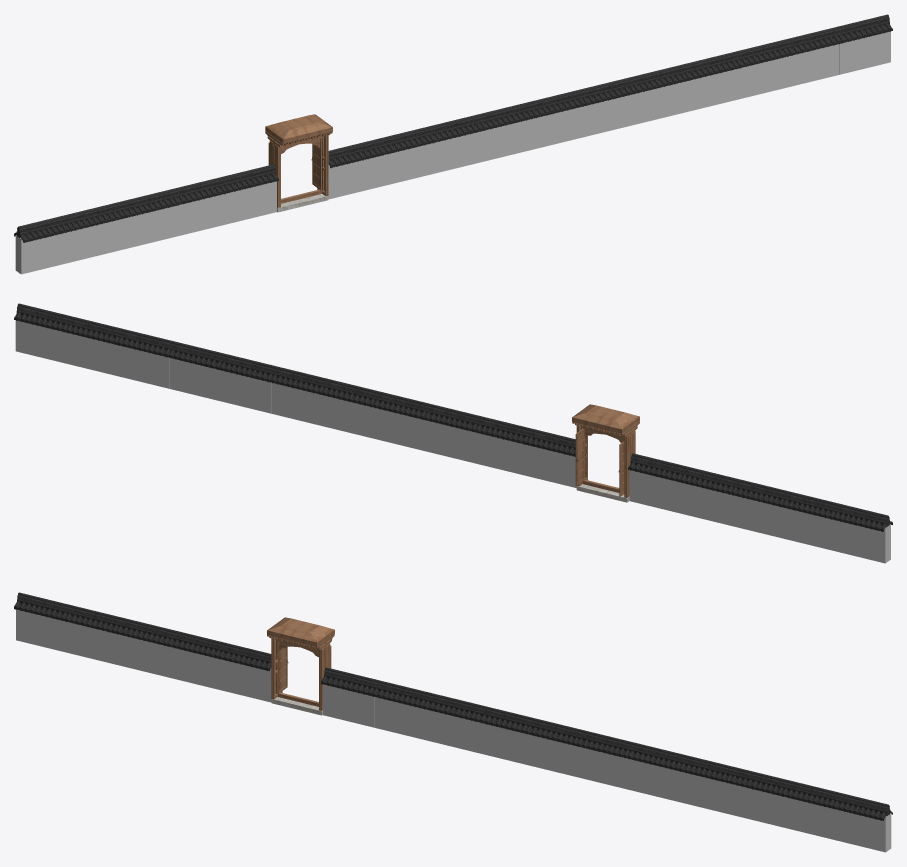
File: SM_HBJ_HG_StoneWallH_Splines_20.fbx
3 renders of one model, top to bottom at view 1: azimuth 30°, elevation 25°; view 2: azimuth 150°, elevation 25°; view 3: azimuth 330°, elevation 25°, orthographic.
Parts seen in each view (by area): view 1: SM_HBJ_HG_StoneWallH_Splines_20; view 2: SM_HBJ_HG_StoneWallH_Splines_20; view 3: SM_HBJ_HG_StoneWallH_Splines_20.
Boxes of the visible parts, x1,y1,x2,y2 form: SM_HBJ_HG_StoneWallH_Splines_20: (14,14,892,274); SM_HBJ_HG_StoneWallH_Splines_20: (14,303,892,563); SM_HBJ_HG_StoneWallH_Splines_20: (14,592,892,852).
Size of the model in its own units: 3544 by 126 by 315.
